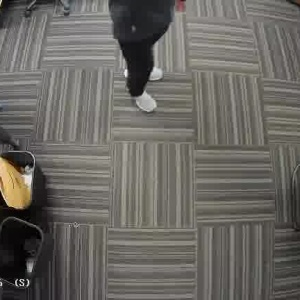person: (112, 0, 175, 112)
